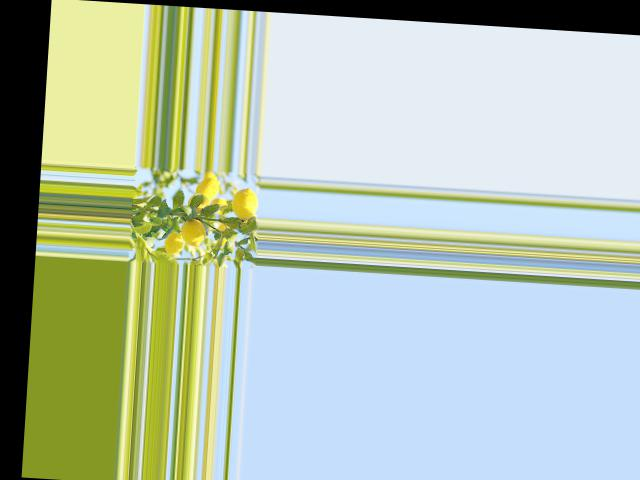lemon: (228, 183, 260, 223)
